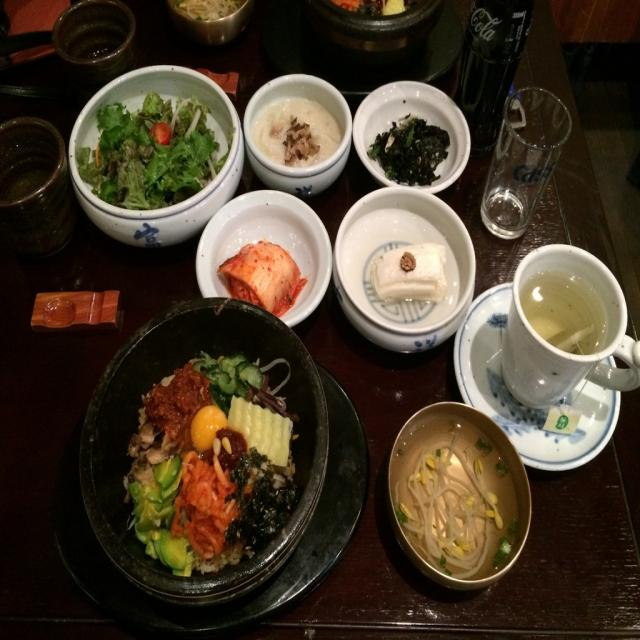Tea: (522, 270, 608, 352)
